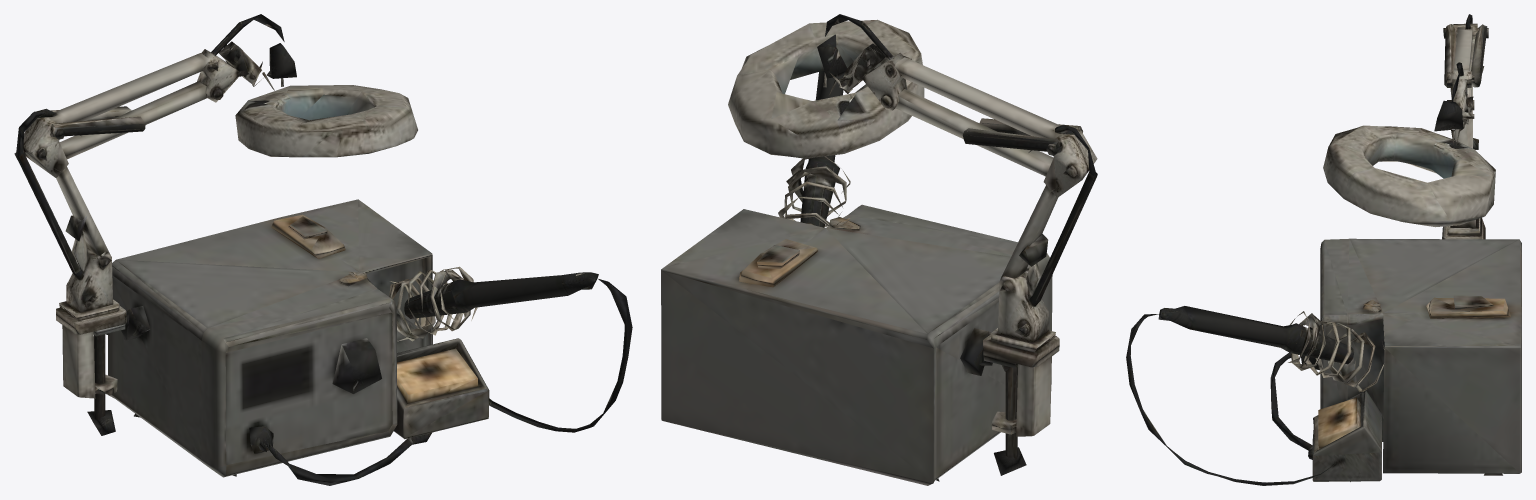
The model's file is p7-soldering-station-t25.glb.
The picture shows the model from 3 angles, left to right: view 1: azimuth 30°, elevation 25°; view 2: azimuth 150°, elevation 25°; view 3: azimuth 270°, elevation 25°; orthographic projection. The views are drawn at different scales.
Visible parts, largest first — view 1: p7-soldering-station-t25; view 2: p7-soldering-station-t25; view 3: p7-soldering-station-t25.
Boxes of the visible parts, left/top/right/bottom form: p7-soldering-station-t25: left=14, top=14, right=632, bottom=485; p7-soldering-station-t25: left=661, top=14, right=1097, bottom=485; p7-soldering-station-t25: left=1126, top=14, right=1521, bottom=485.
Bounding box in the file's own units: 0.632 × 0.55 × 0.555.
1 material, 1 textured.
